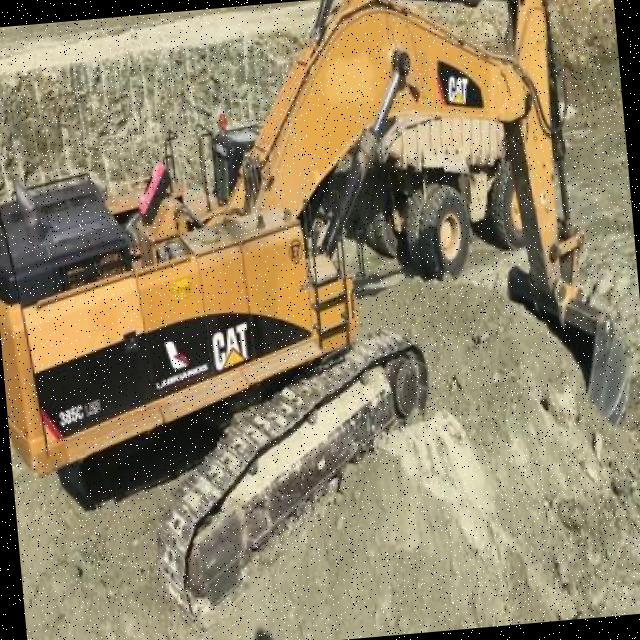Dump Truck: (360, 110, 532, 286)
Excavator: (0, 0, 640, 637)
